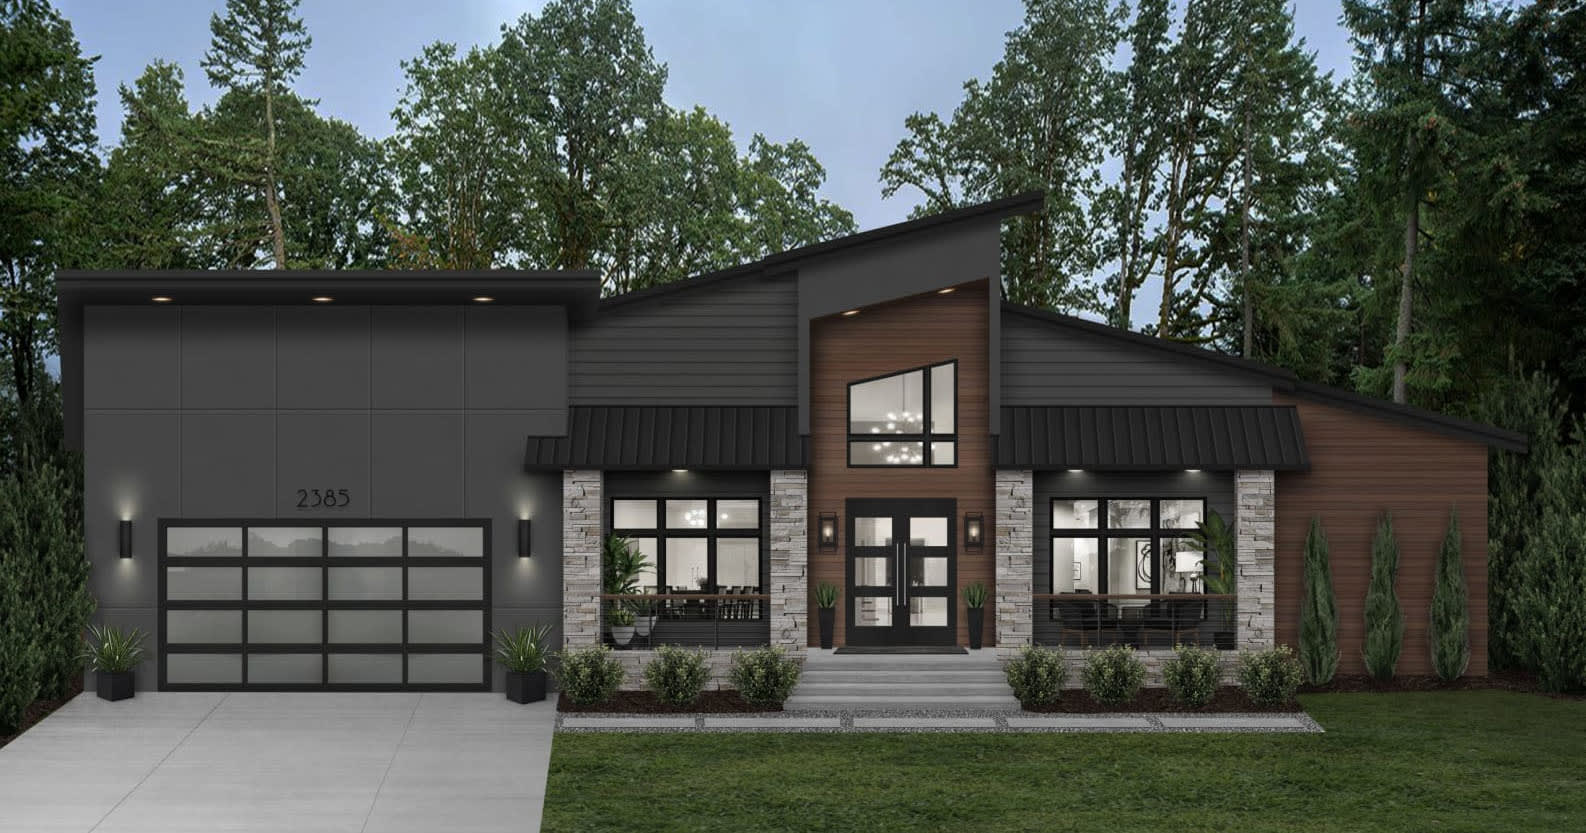Window: (1044, 491, 1214, 611), (613, 497, 769, 619), (846, 492, 962, 647), (844, 360, 955, 463)
